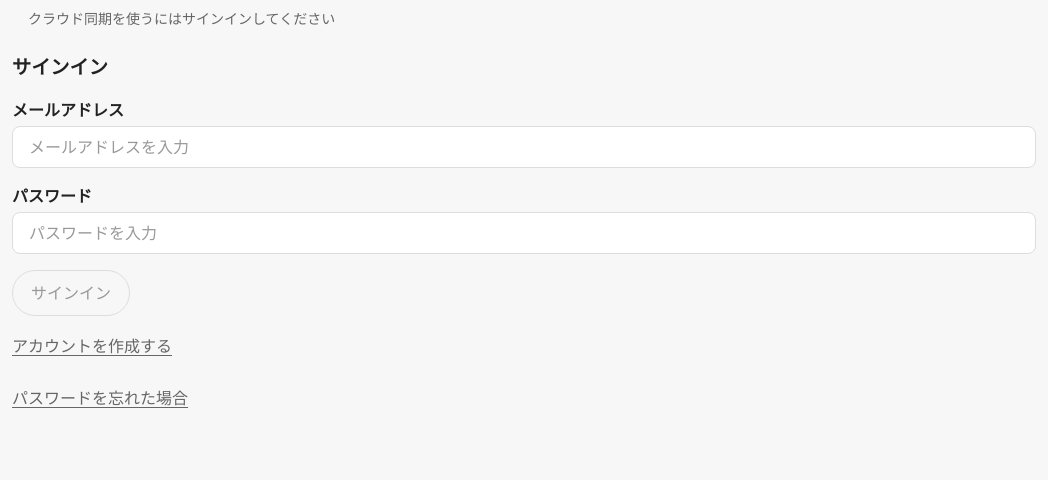
Test: CloudSyncAccountPanel › サインイン › メールアドレスとパスワードを入力してサインインできる
Type " user@example.com " into the field labelled "メールアドレス" at (524, 147), box [12,126,1036,168]
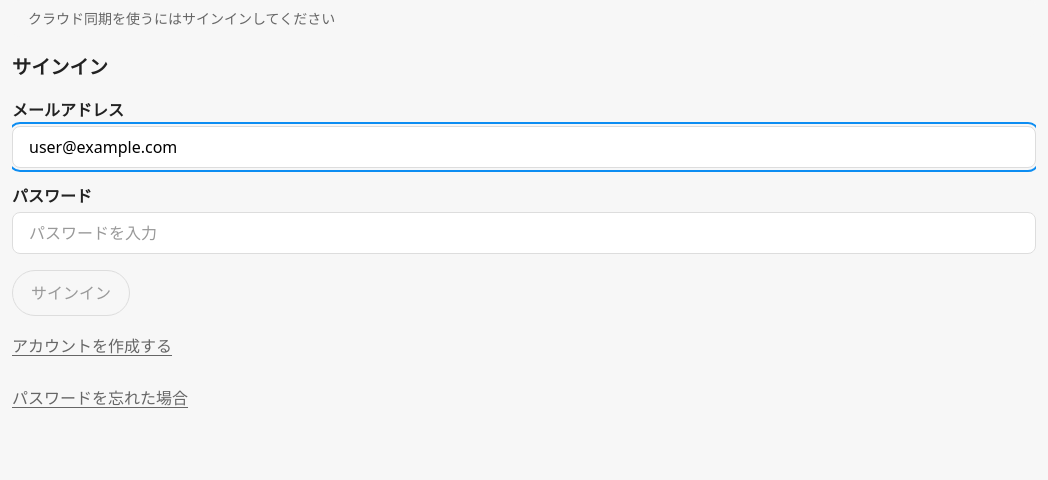
Type "Passw0rd!" into the password field labelled "パスワード" at (524, 233), box [12,212,1036,254]
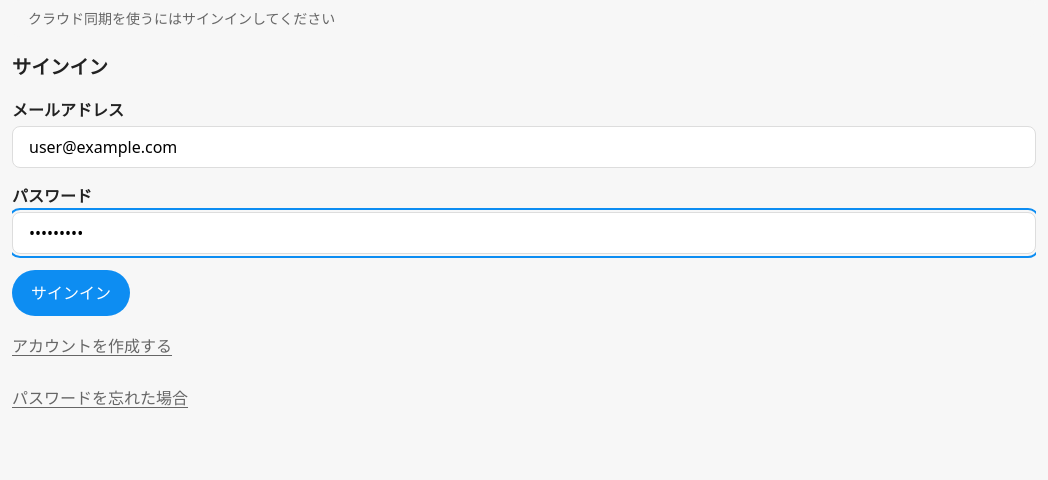
Expected: the button "サインイン" is enabled
Click the button "サインイン" at (71, 293), box [12,270,130,316]
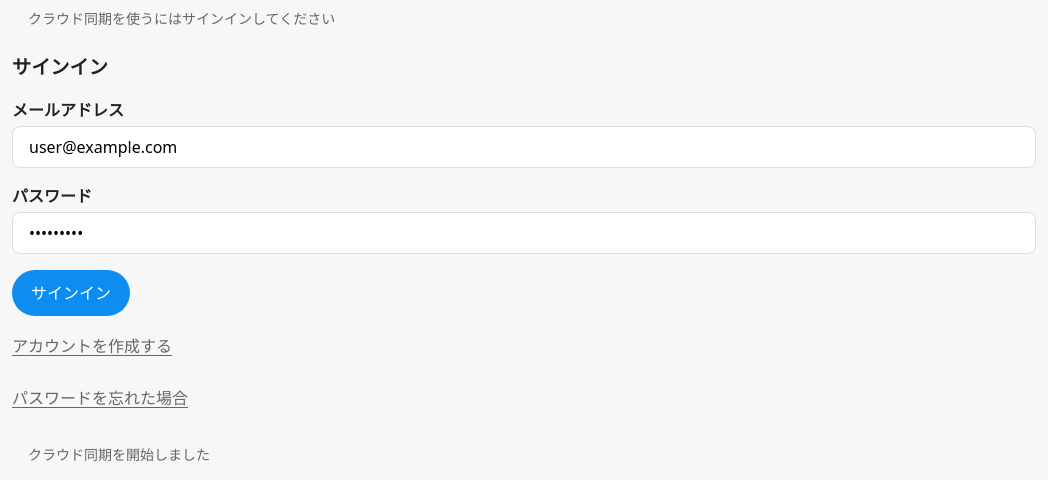
Expected: the message reads "クラウド同期を開始しました", [28,445,210,464]
